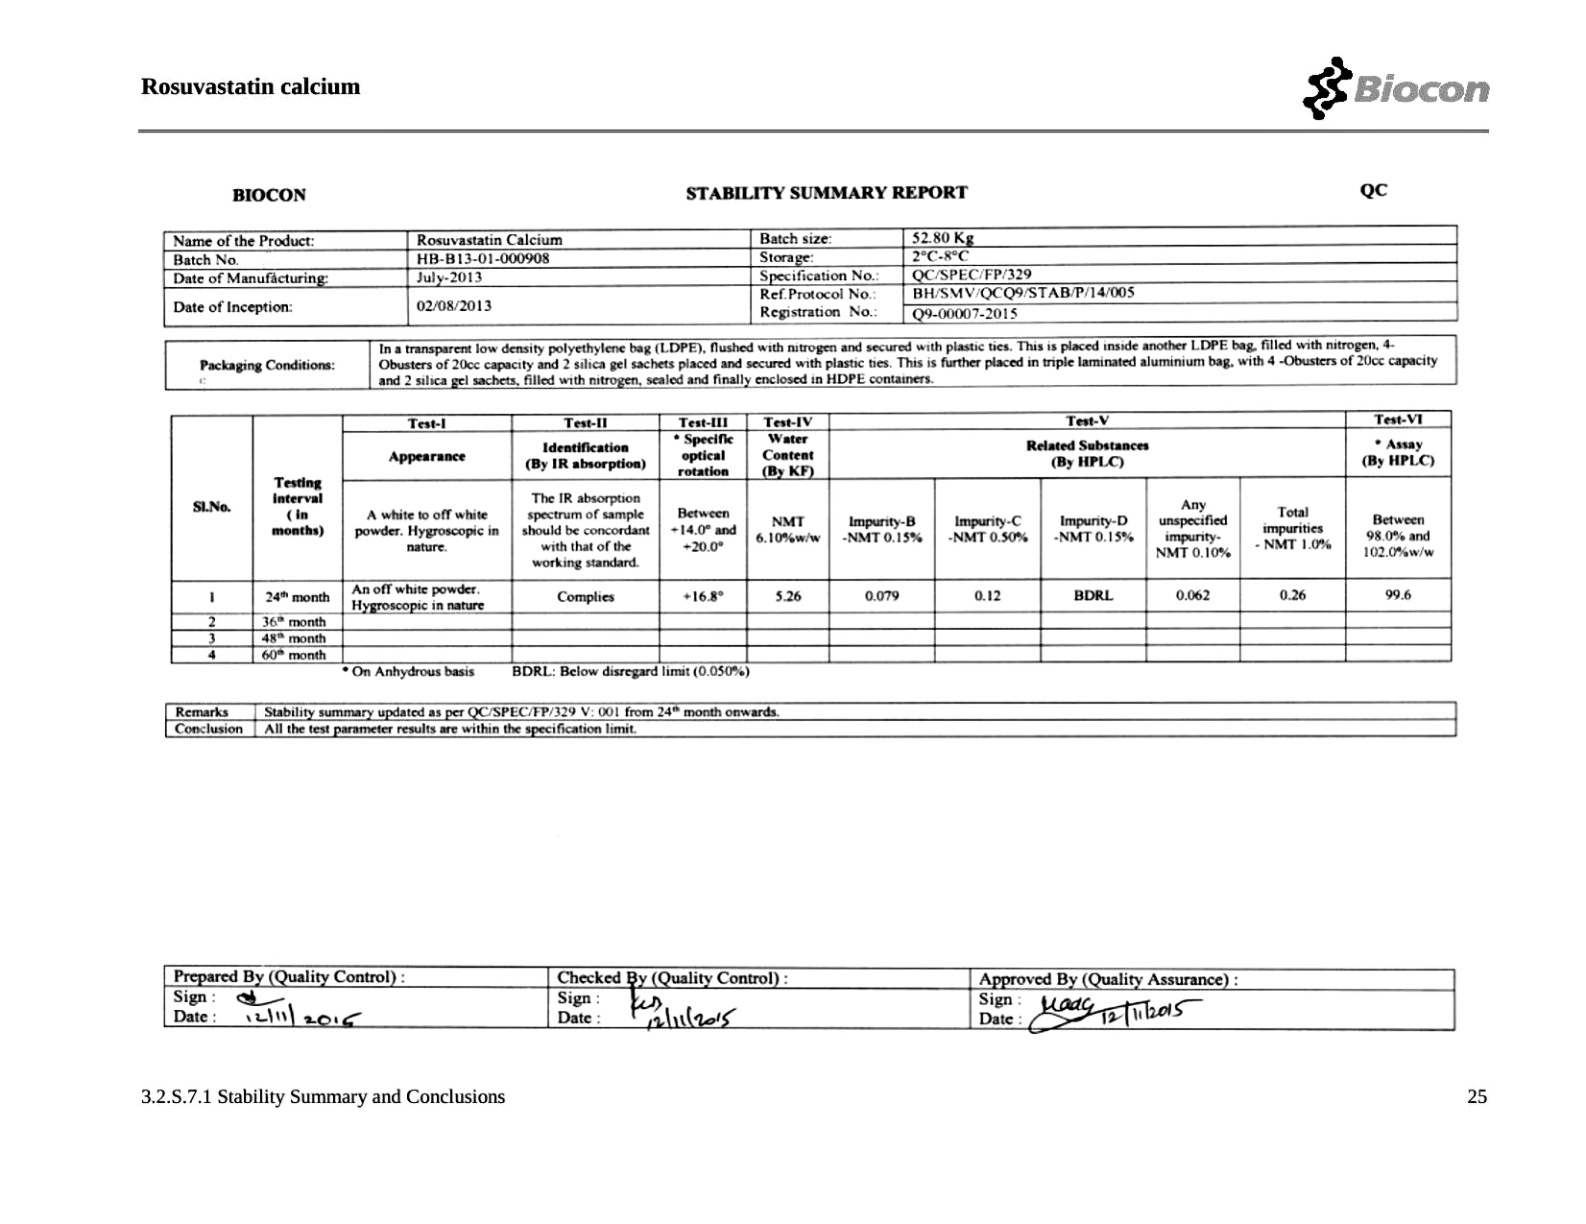full_lined: (163, 964, 1456, 1032), (165, 332, 1459, 391), (165, 699, 1457, 738)
merged_cells: (168, 409, 1454, 665), (161, 222, 1459, 328)
